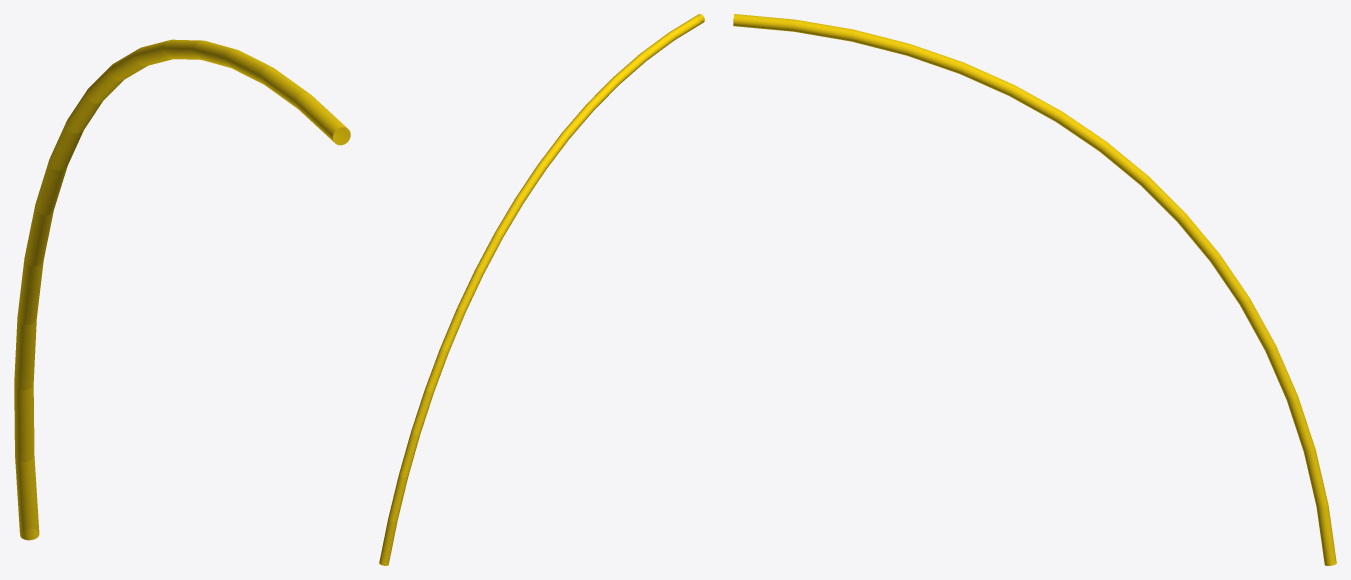
The model's file is Event_421278790_track_0.fbx.
3 views of the same model, side by side, from view 1: azimuth 30°, elevation 25°; view 2: azimuth 150°, elevation 25°; view 3: azimuth 270°, elevation 25° (orthographic). The views are drawn at different scales.
Parts seen in each view (by area): view 1: Model; view 2: Model; view 3: Model.
Boxes of the visible parts, bbox=[...] form: Model: bbox=[14, 39, 350, 540]; Model: bbox=[379, 14, 704, 565]; Model: bbox=[733, 14, 1336, 565].
Size of the model in its own units: 0.4214 by 1.8 by 1.97.
